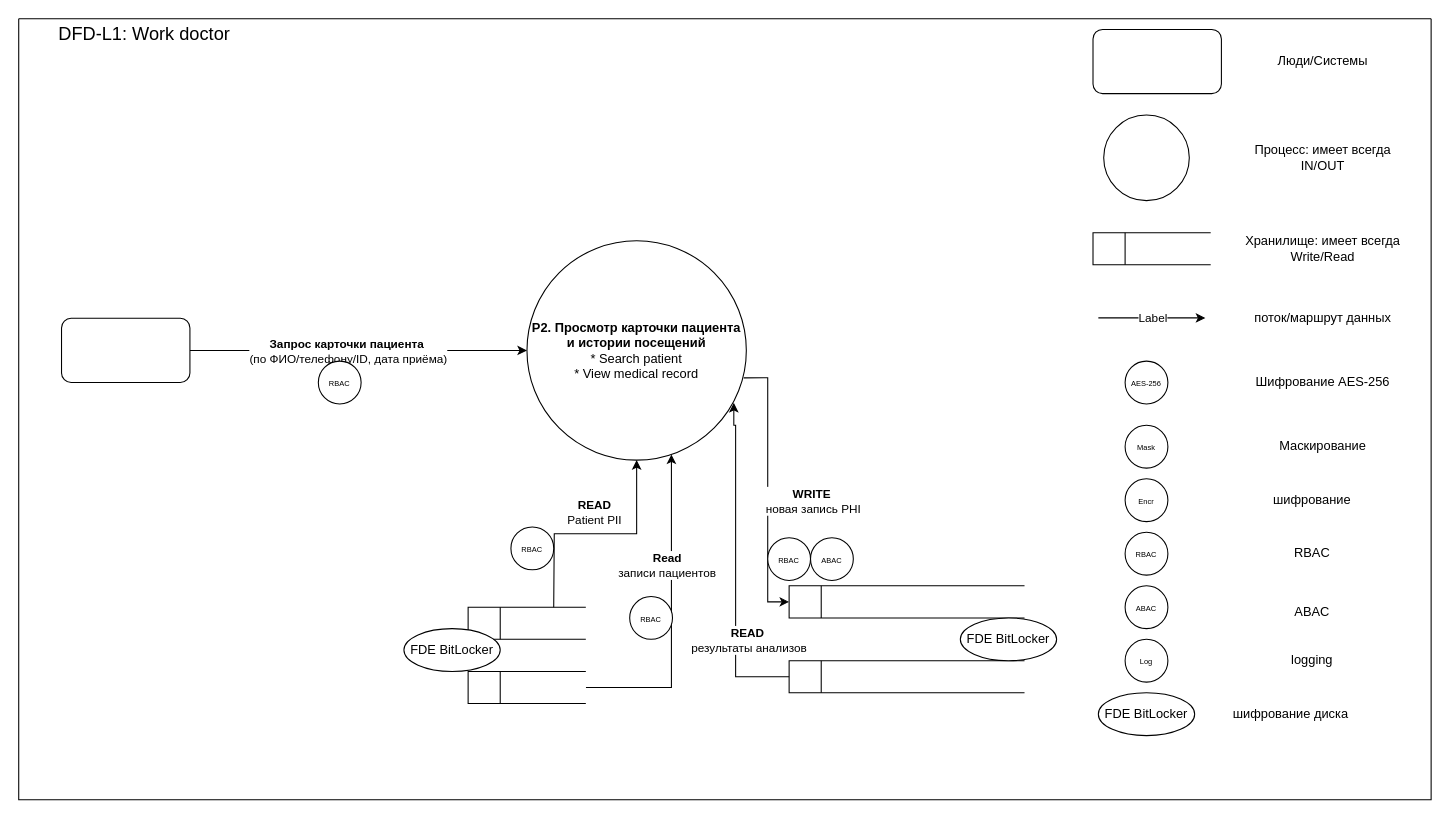
Some shapes in this 1450 by 819 pixel diagram are drawn without their labels. The centre of each missing label's shape, as x and y in pixels:
D1 Patients.xlsx: the point at 526,622
D1 Storage: the point at 1151,248
D2 Journal.xlsx: the point at 526,687
D3 Lab results (PHI): the point at 906,676
D4 Карта пациента (PHI) PDF/JPG: the point at 906,601
Doctor (врач): the point at 125,350
External object: the point at 1156,61
P1. Procces: the point at 1146,157
